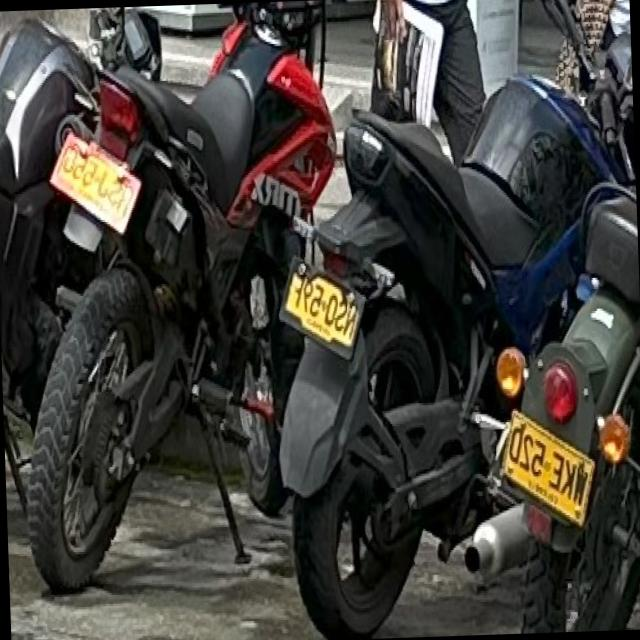number plate: (504, 408, 595, 523), (53, 130, 142, 230), (282, 257, 366, 354)
